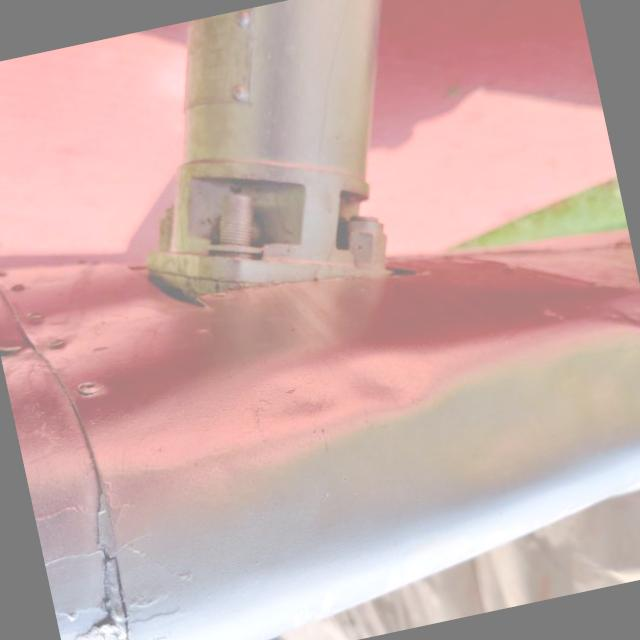crack: (49, 532, 157, 640)
dent: (231, 310, 466, 488)
